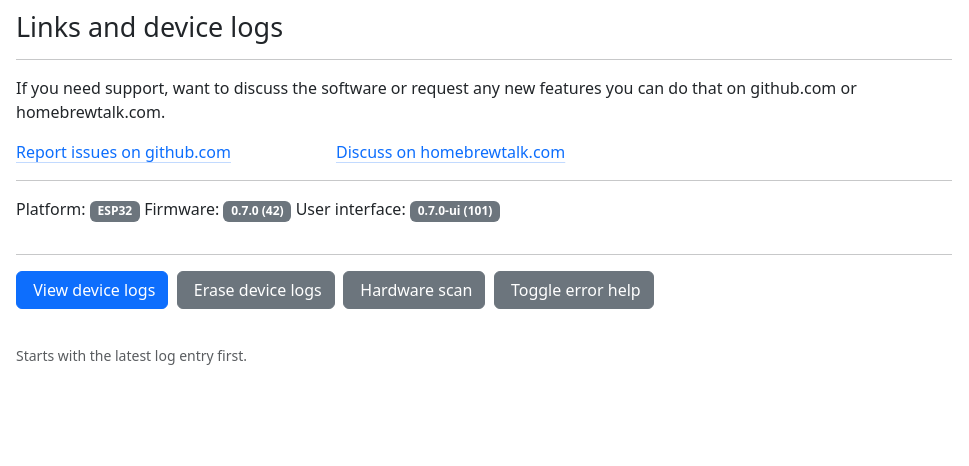
Test: SupportView › views device logs in newest-first order across both files
Step 1. Click the button "View device logs" → (92, 290), box x1=16 y1=270 x2=168 y2=308
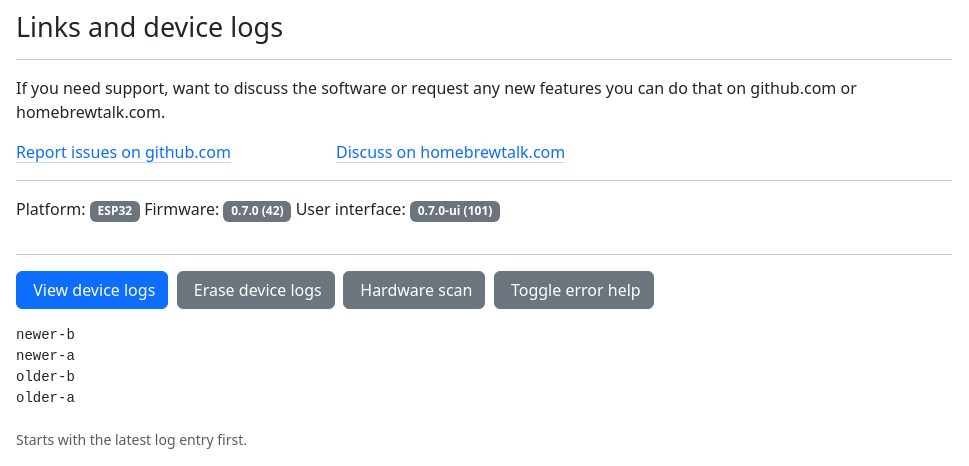
Check: the text "newer-b newer-a older-b older-a" is shown, box x1=16 y1=326 x2=75 y2=406
